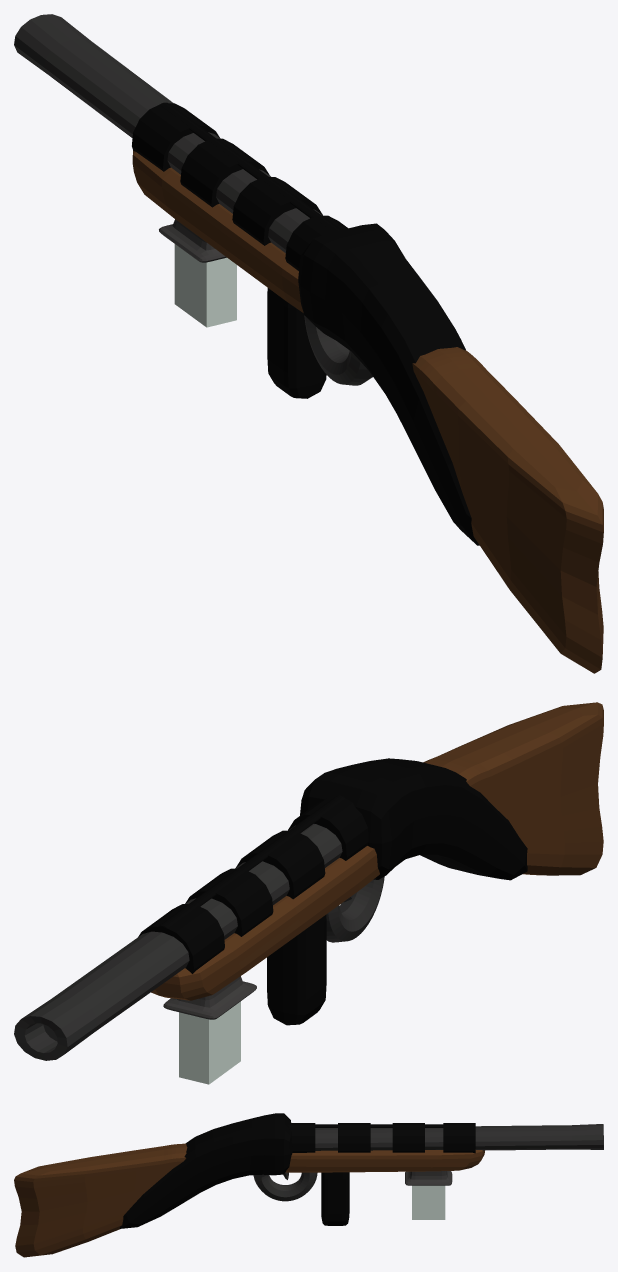
The model's file is PirateAR 1.fbx.
3 renders of one model, top to bottom at view 1: azimuth 30°, elevation 25°; view 2: azimuth 150°, elevation 25°; view 3: azimuth 270°, elevation 25°, orthographic. The views are drawn at different scales.
Visible parts, largest first — view 1: Base, CurveBase, Barrel.001, BarrelHolder, Cube.004, Ammo, Cylinder.001, Cylinder.002, Cylinder.003, Barrel.002, Ammo Holder, Cylinder; view 2: CurveBase, Base, Barrel.001, BarrelHolder, Cube.004, Ammo, Cylinder.001, Cylinder.003, Cylinder.002, Cylinder, Barrel.002, Ammo Holder; view 3: Base, CurveBase, Barrel.001, BarrelHolder, Cube.004, Ammo, Cylinder.003, Cylinder.001, Cylinder.002, Ammo Holder, Cylinder, Barrel.002.
Part boxes in pixels (x1,y1,x2,y2): Base: [412, 347, 603, 673]; CurveBase: [298, 223, 479, 545]; Barrel.001: [14, 14, 322, 253]; BarrelHolder: [132, 150, 303, 312]; Cube.004: [267, 288, 326, 398]; Ammo: [174, 244, 236, 327]; Cylinder.001: [232, 177, 322, 245]; Cylinder.002: [180, 138, 269, 207]; Cylinder.003: [132, 103, 219, 171]; Barrel.002: [159, 102, 340, 231]; Ammo Holder: [159, 219, 226, 262]; Cylinder: [285, 215, 347, 270]; CurveBase: [300, 758, 527, 942]; Base: [423, 702, 603, 875]; Barrel.001: [14, 824, 342, 1060]; BarrelHolder: [151, 846, 379, 1000]; Cube.004: [267, 915, 326, 1025]; Ammo: [179, 1001, 240, 1084]; Cylinder.001: [236, 830, 325, 899]; Cylinder.003: [138, 904, 224, 973]; Cylinder.002: [185, 868, 273, 936]; Cylinder: [288, 797, 368, 860]; Barrel.002: [158, 795, 344, 927]; Ammo Holder: [163, 976, 256, 1019]; Base: [14, 1143, 187, 1257]; CurveBase: [119, 1113, 317, 1228]; Barrel.001: [315, 1124, 603, 1150]; BarrelHolder: [285, 1150, 484, 1172]; Cube.004: [321, 1172, 349, 1225]; Ammo: [412, 1185, 445, 1219]; Cylinder.003: [443, 1123, 475, 1153]; Cylinder.001: [338, 1123, 370, 1152]; Cylinder.002: [392, 1123, 424, 1152]; Ammo Holder: [405, 1171, 452, 1185]; Cylinder: [289, 1123, 315, 1152]; Barrel.002: [288, 1124, 475, 1127].
Size of the model in its own units: 44.69 by 123 by 481.
